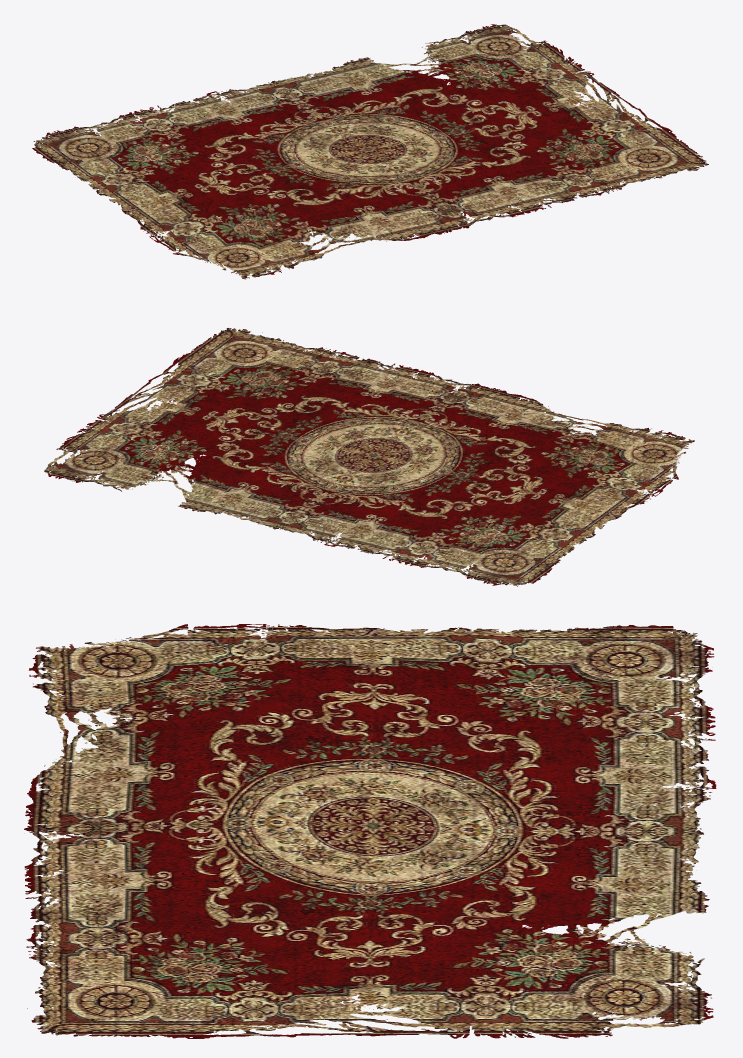
File: Prop_Dt03.glb
3 renders of one model, top to bottom at view 1: azimuth 30°, elevation 25°; view 2: azimuth 150°, elevation 25°; view 3: azimuth 270°, elevation 25°, orthographic. The views are drawn at different scales.
Visible parts, largest first — view 1: xiutz_dt_03; view 2: xiutz_dt_03; view 3: xiutz_dt_03.
Boxes of the visible parts, x1,y1,x2,y2 form: xiutz_dt_03: (32, 24, 708, 279); xiutz_dt_03: (44, 328, 694, 586); xiutz_dt_03: (24, 624, 716, 1038).
Bounding box in the file's own units: 4.07 × 0.0667 × 2.93.
Materials: 1 (1 with a texture image).
